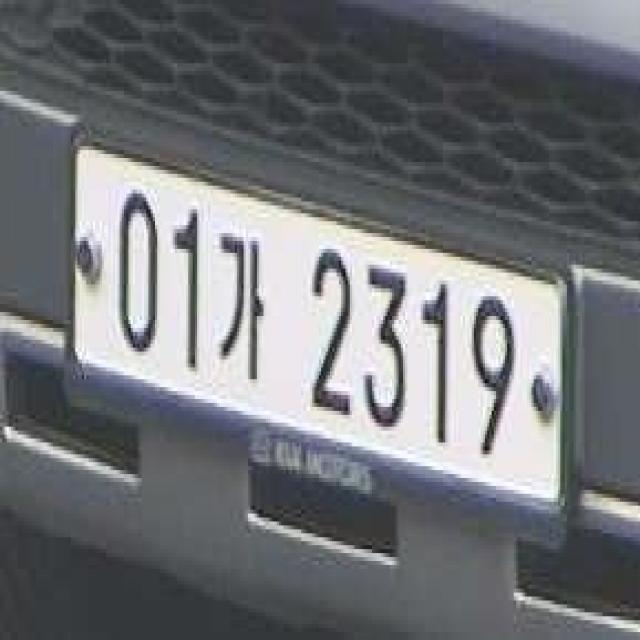illegal_plate: (68, 116, 573, 550)
